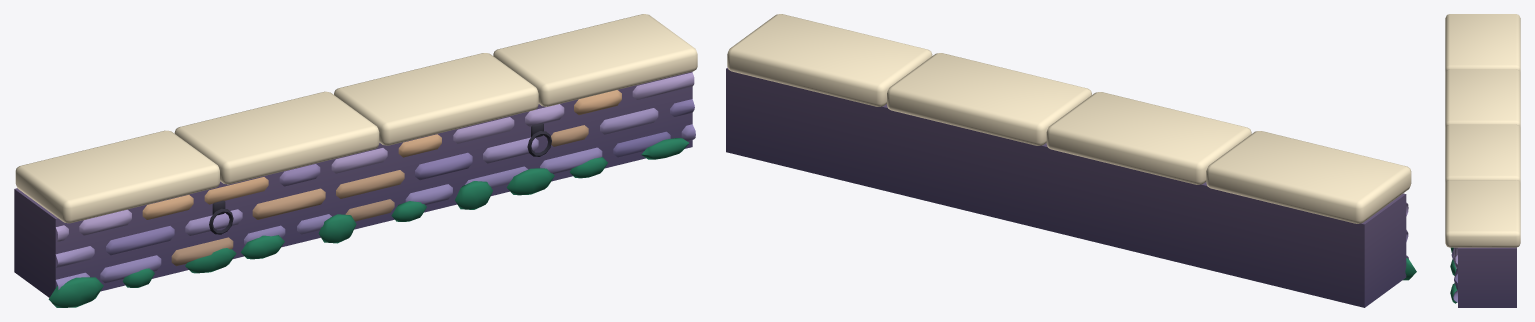
Rendered from seawall.glb.
The picture shows the model from 3 angles, left to right: view 1: azimuth 30°, elevation 25°; view 2: azimuth 150°, elevation 25°; view 3: azimuth 270°, elevation 25°; orthographic projection. The views are drawn at different scales.
Visible parts, largest first — view 1: seawall; view 2: seawall; view 3: seawall.
Part boxes in pixels (<box>): seawall: <box>14,14,697,307</box>; seawall: <box>726,14,1416,307</box>; seawall: <box>1445,14,1520,307</box>.
Size of the model in its own units: 8.11 by 1.36 by 1.15.
